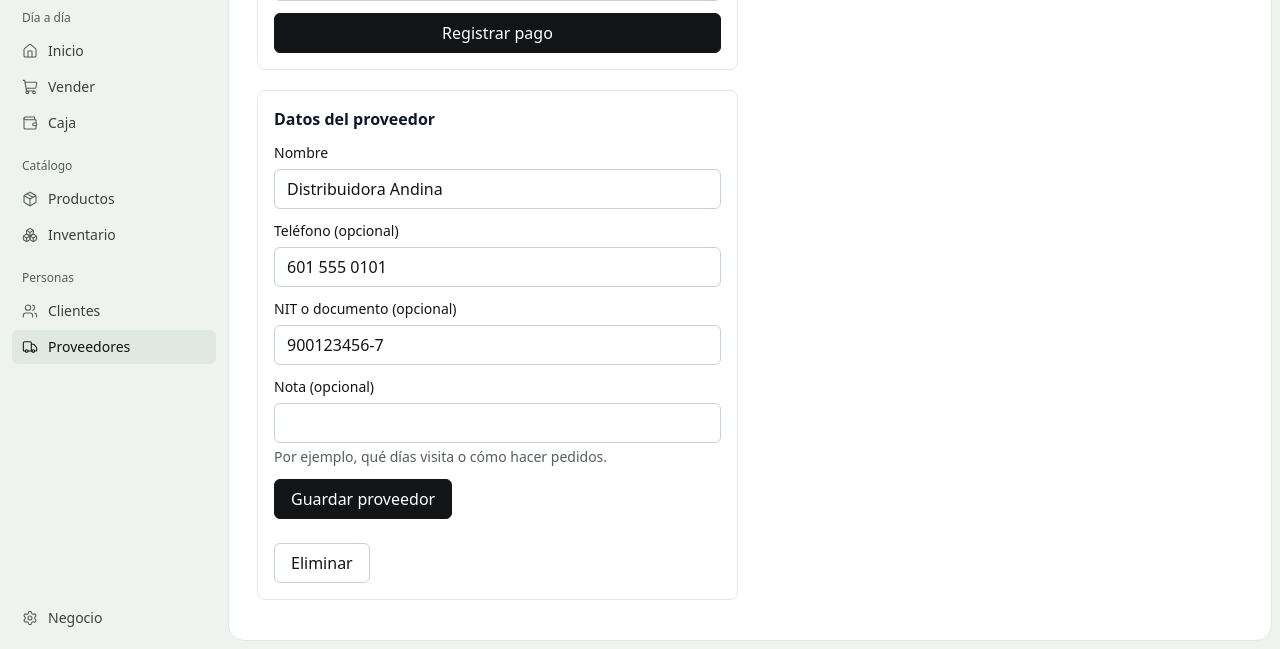
Test: suppliers and payables › explains why a supplier with debt cannot be deleted
(page scrolled)
Click the button with aria-label "Eliminar proveedor" at point(322, 563), box x1=274 y1=543 x2=370 y2=583
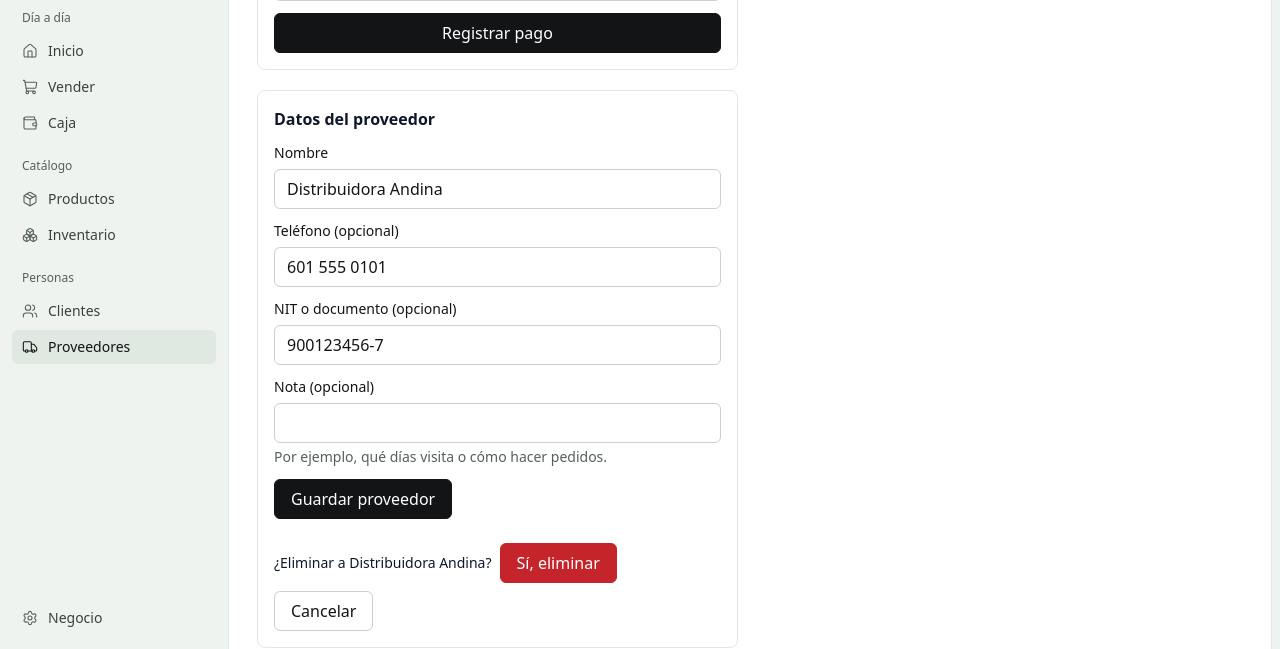
Click the button "Sí, eliminar" at point(558, 563), box x1=500 y1=543 x2=617 y2=583
(page scrolled)
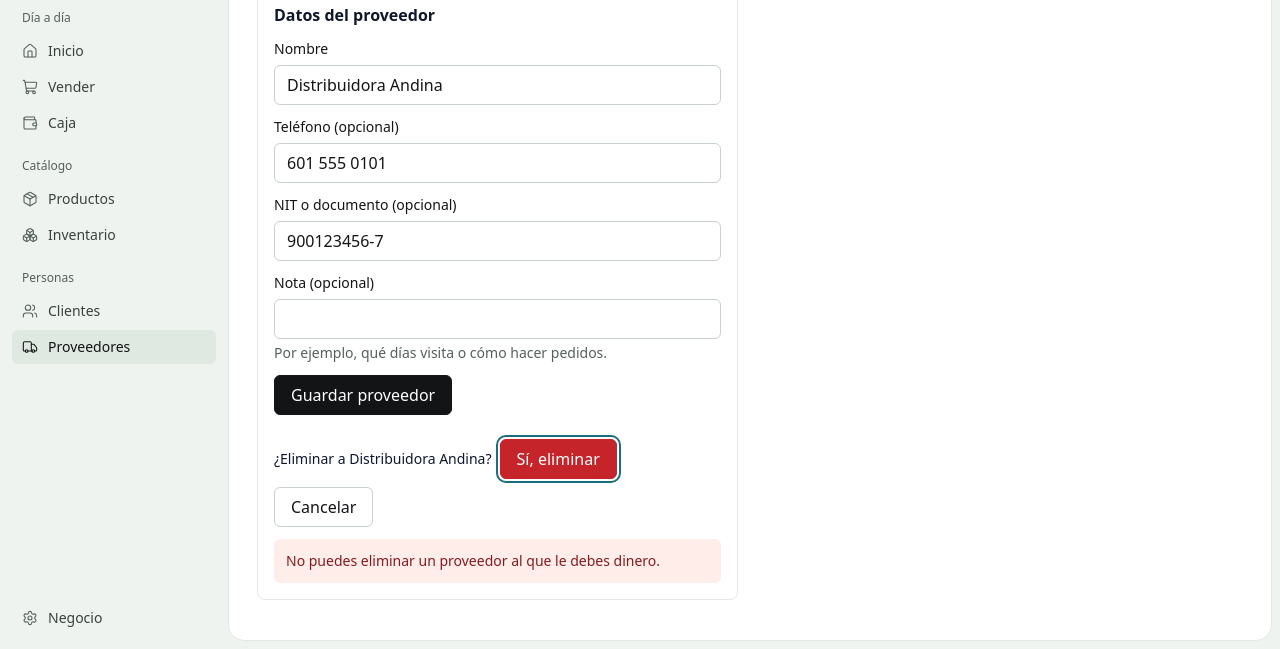
Result: the text "No puedes eliminar un proveedor al que le debes dinero." is shown at x1=274 y1=539 x2=721 y2=583
